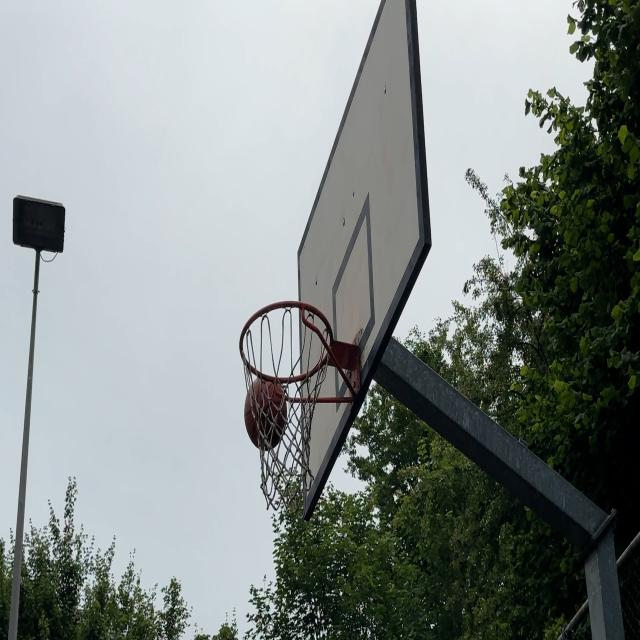Basketball: (248, 381, 289, 447)
